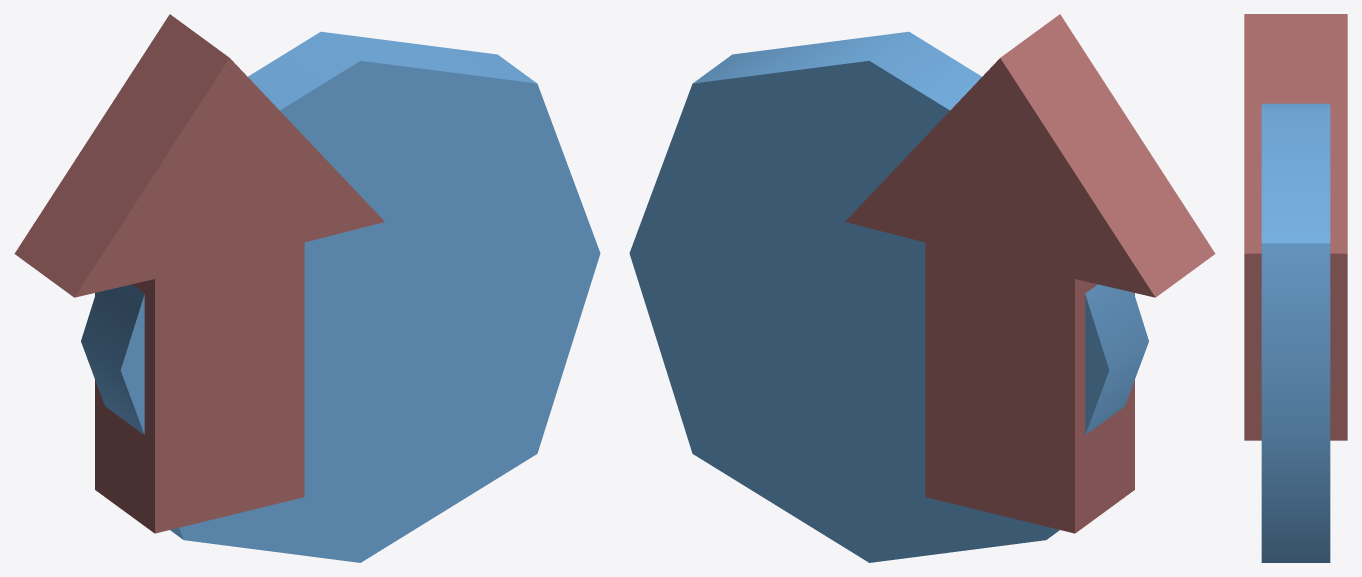
The model's file is UpgradeOrbBig.fbx.
3 views of the same model, side by side, from view 1: azimuth 30°, elevation 25°; view 2: azimuth 150°, elevation 25°; view 3: azimuth 270°, elevation 25° (orthographic). The views are drawn at different scales.
Visible parts, largest first — view 1: Orb, Arrow; view 2: Orb, Arrow; view 3: Orb, Arrow.
Boxes of the visible parts, x1,y1,x2,y2 form: Orb: [81, 31, 600, 562]; Arrow: [14, 14, 384, 533]; Orb: [629, 31, 1148, 562]; Arrow: [845, 14, 1215, 533]; Orb: [1261, 103, 1330, 562]; Arrow: [1244, 14, 1347, 440].
Bounding box in the file's own units: 1.52 × 1.48 × 0.2934.
